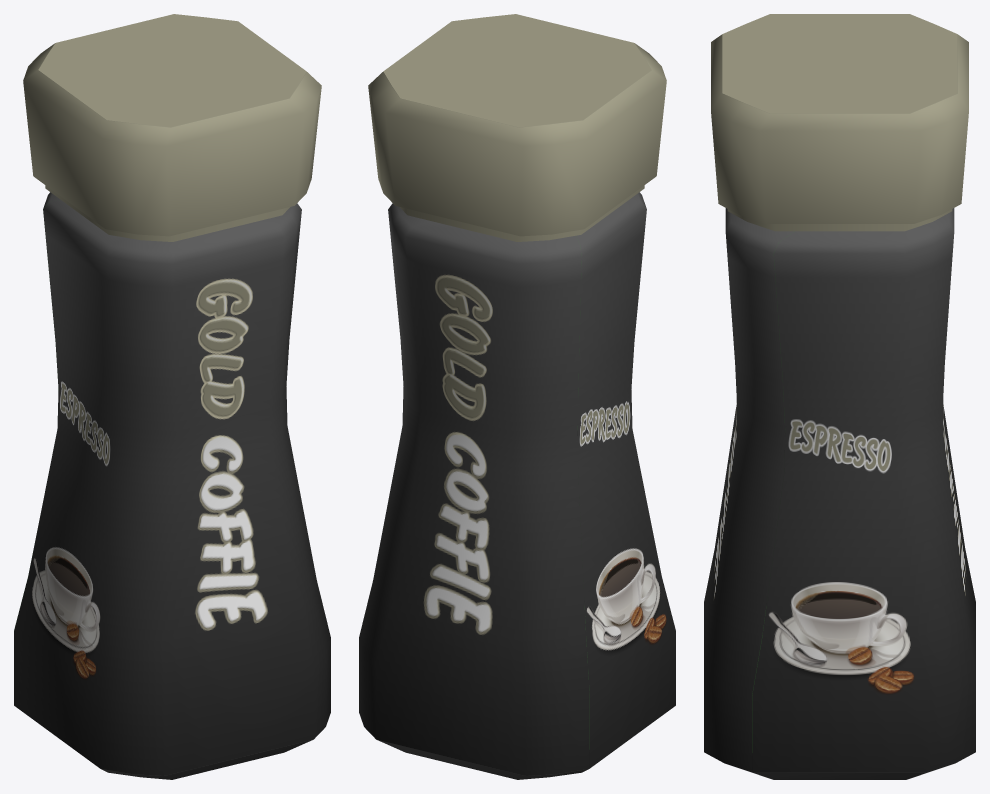
File: sp_coffee_1_bank.FBX
3 renders of one model, left to right at view 1: azimuth 30°, elevation 25°; view 2: azimuth 150°, elevation 25°; view 3: azimuth 270°, elevation 25°, orthographic. The views are drawn at different scales.
Parts seen in each view (by area): view 1: sp_coffee_1_bank; view 2: sp_coffee_1_bank; view 3: sp_coffee_1_bank.
Boxes of the visible parts, box(x1,y1,x2,y2) form: sp_coffee_1_bank: box(14, 14, 330, 779); sp_coffee_1_bank: box(359, 14, 675, 779); sp_coffee_1_bank: box(704, 14, 975, 779).
Bounding box in the file's own units: 2.76 × 2.76 × 7.48.
